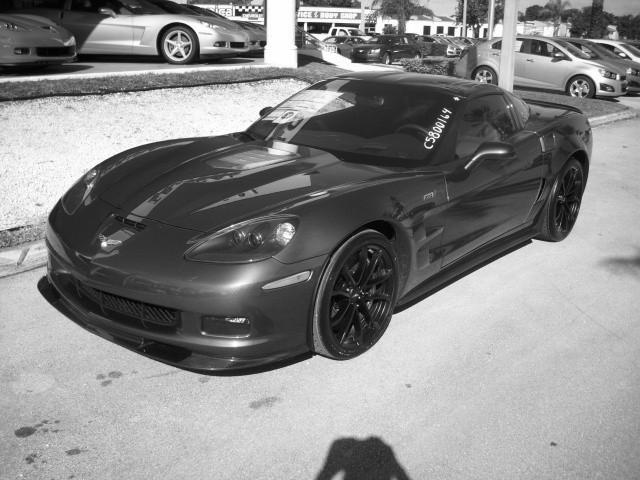car: (48, 78, 593, 373)
